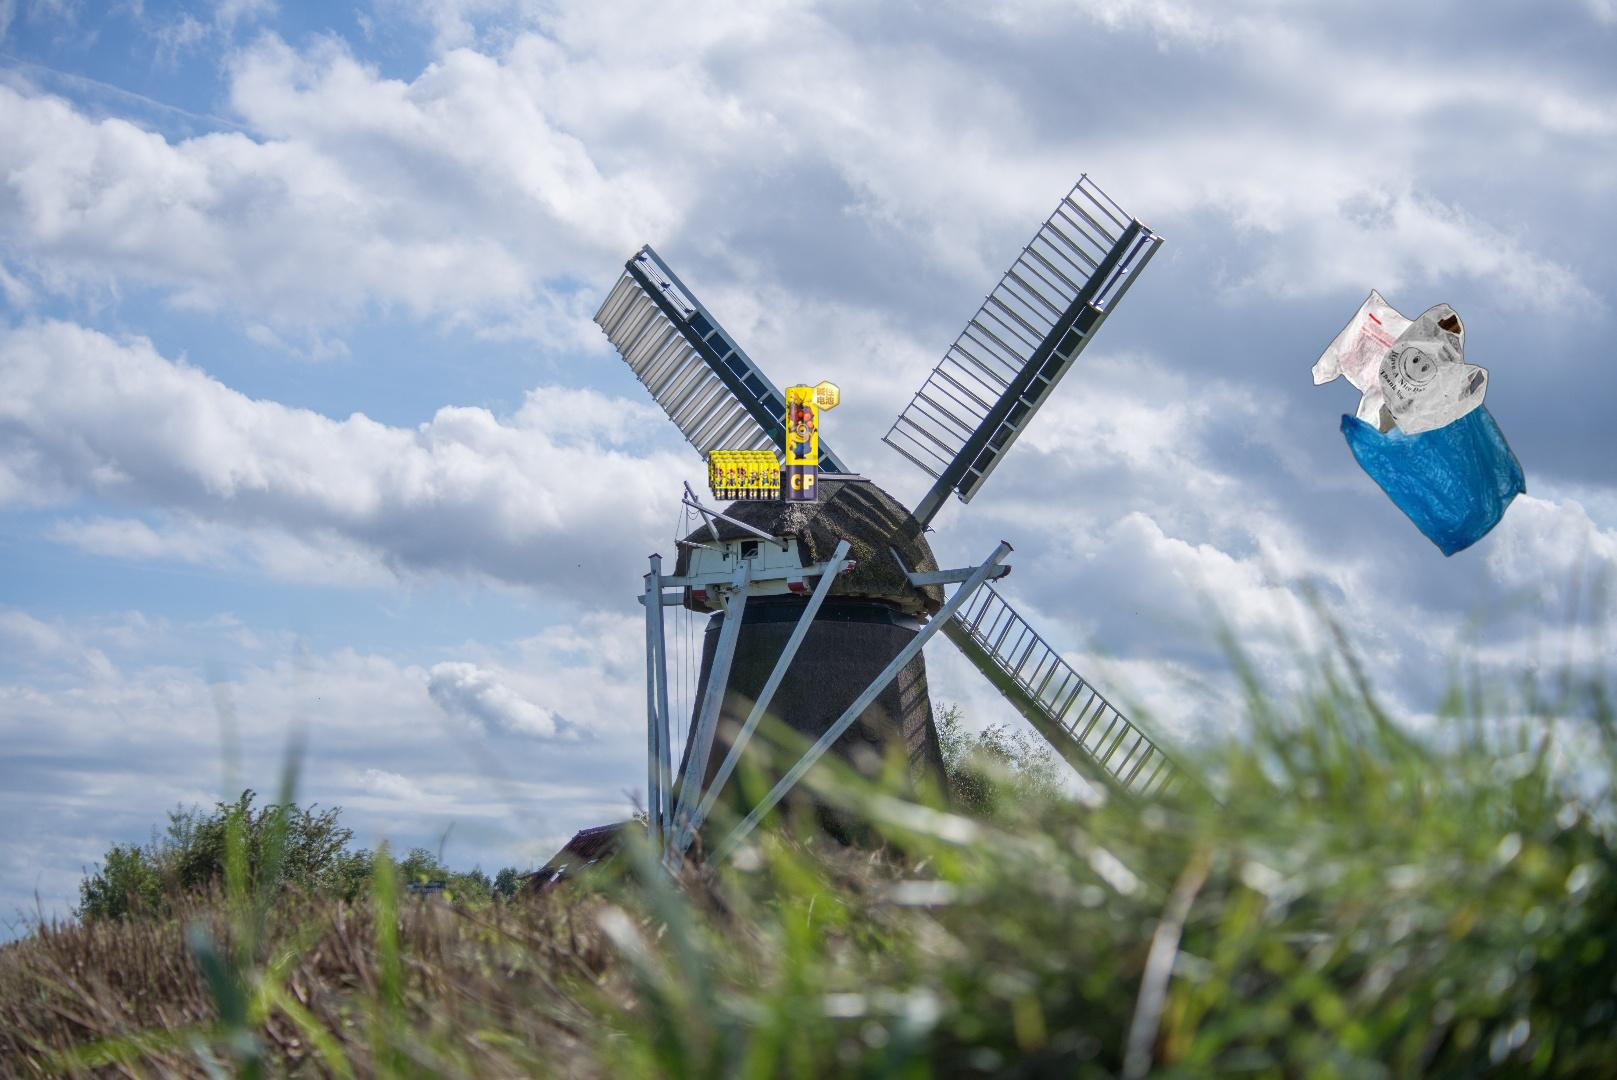battery: (706, 378, 842, 504)
plastic-bag: (1309, 286, 1529, 560)
